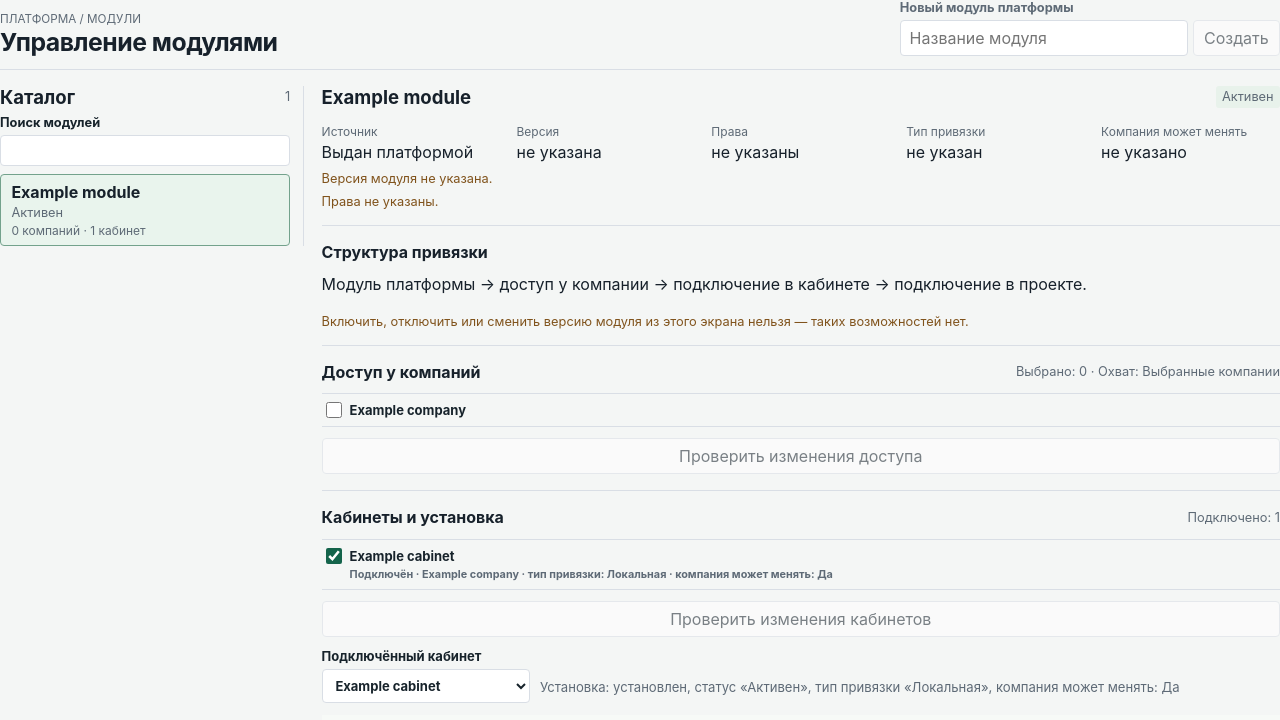
module binding owner workflow › confirms a company grant and verifies it from admin detail readback
The width and height of the screenshot is (1280, 720).
Later steps or results of the test are not shown.
Expected: the label "Example company" is shown, [322,394,1279,427]
Click the checkbox labelled "Example company" at coordinates (334, 410), box [326,402,342,418]
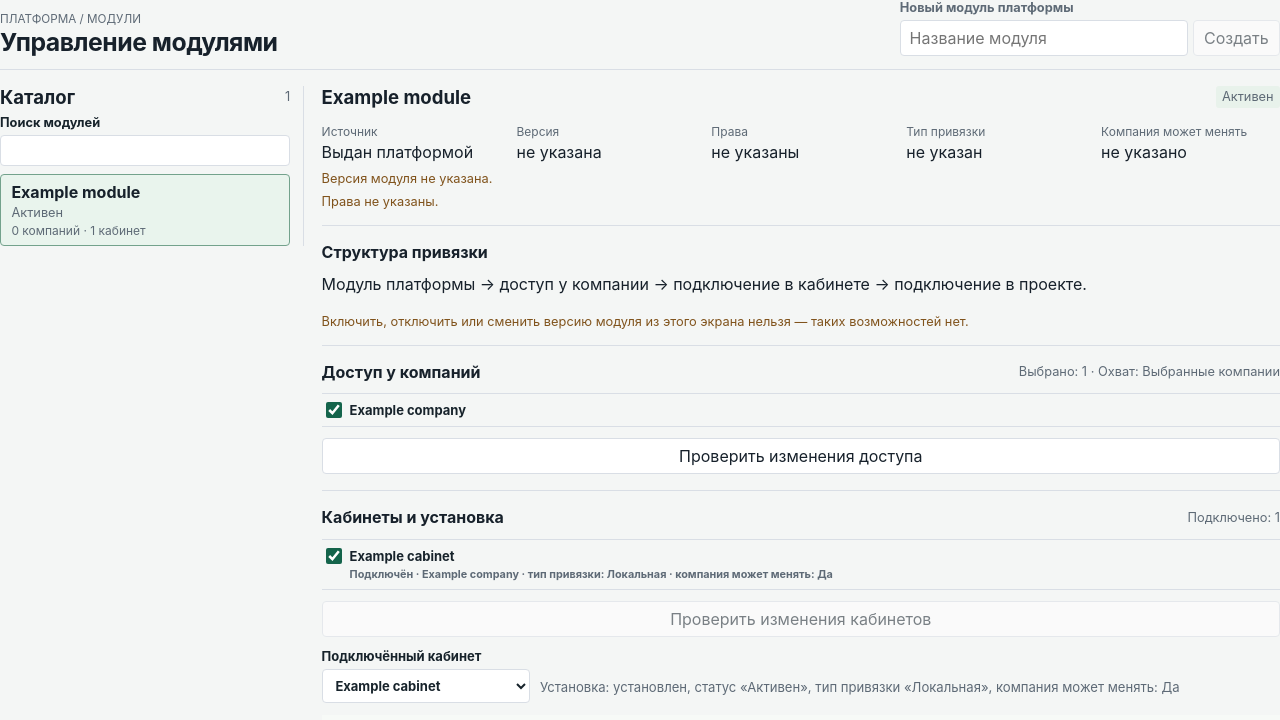
Click the button "Проверить изменения доступа" at coordinates (801, 456), box [322,438,1279,474]
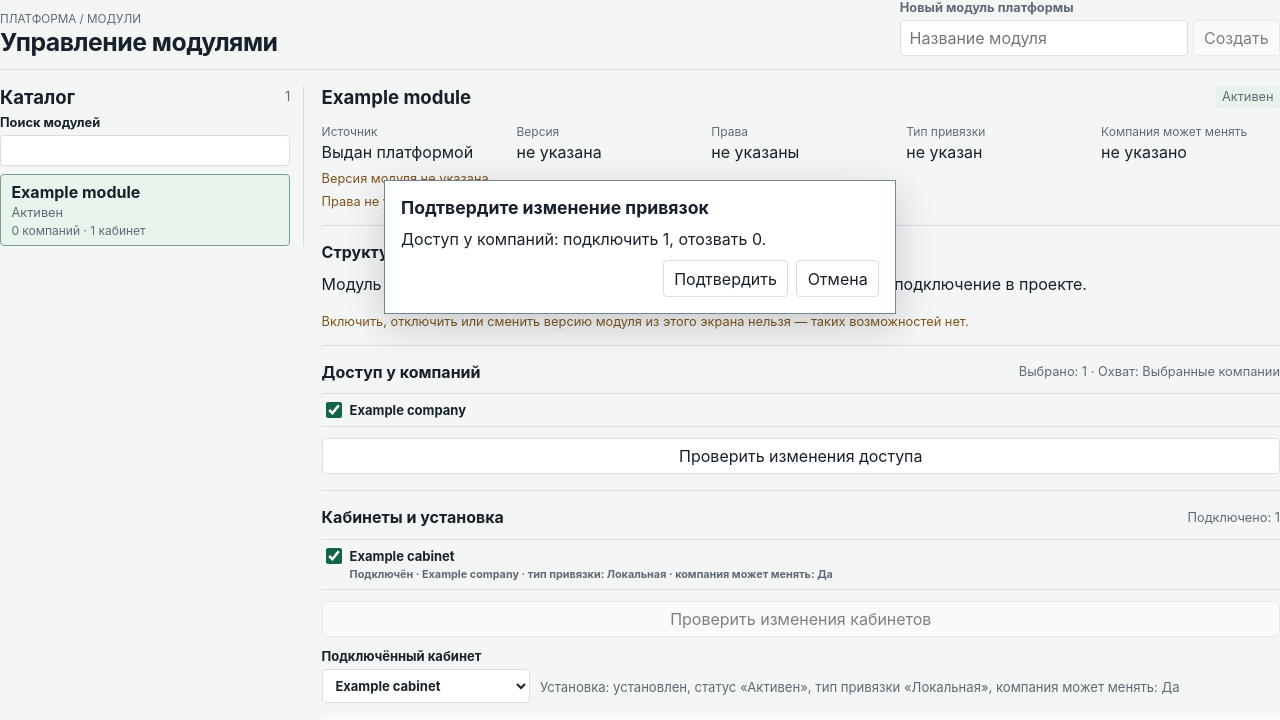
Expected: the dialog shows "подключить 1, отозвать 0", [401,229,766,249]
